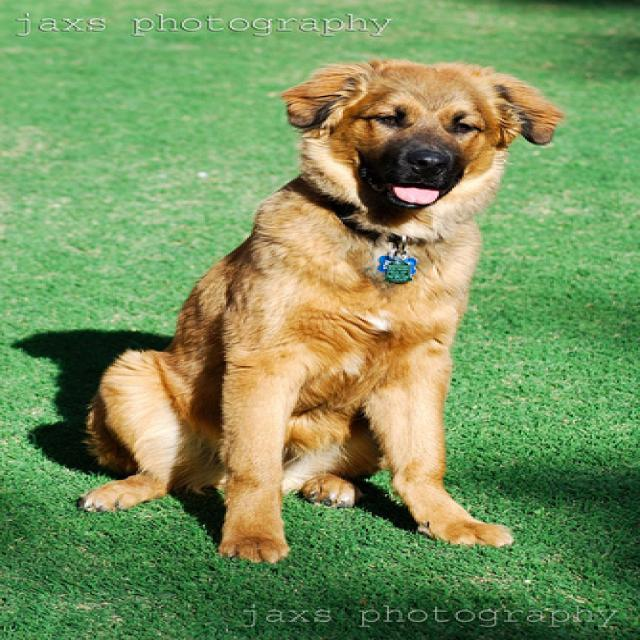dog-leonberger: (63, 52, 573, 564)
